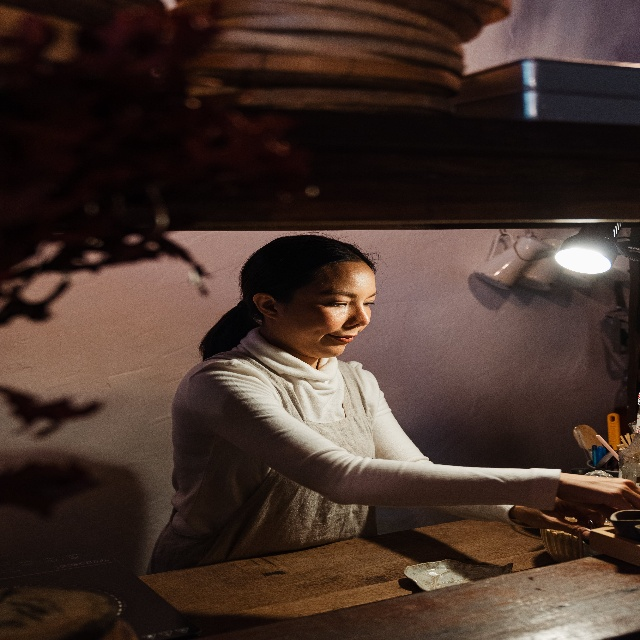Sin_guantes: (560, 470, 639, 515), (511, 500, 602, 538)
